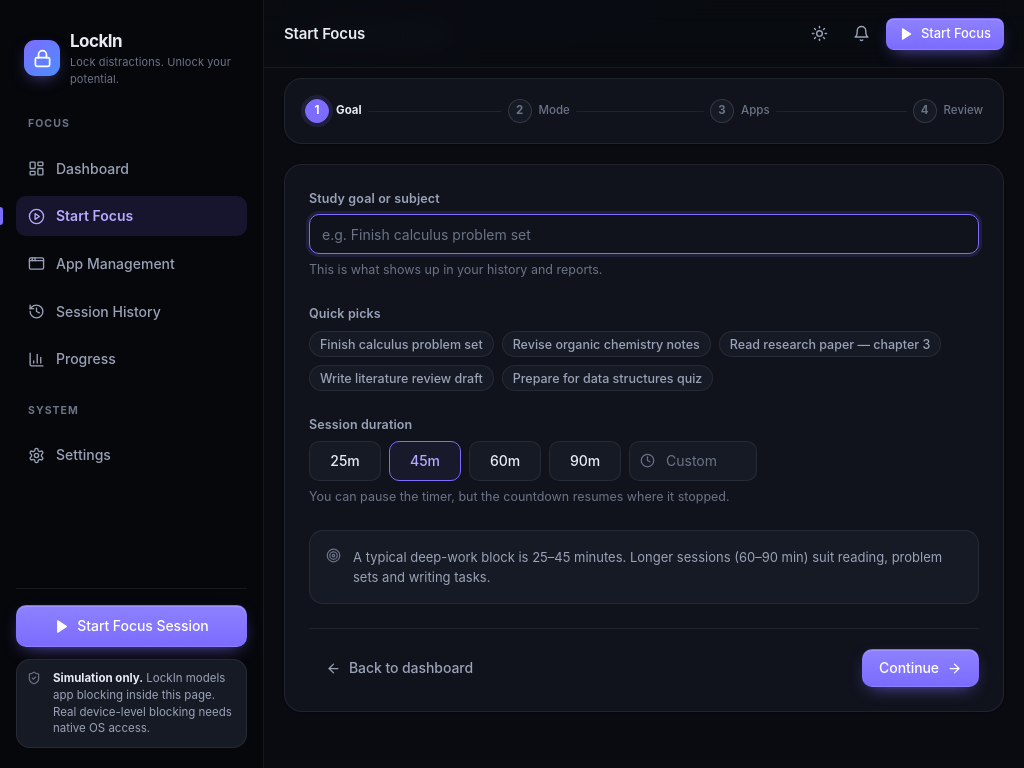
focus session setup › refuses to continue without a valid study goal
(page scrolled)
Expected: the field labelled "Study goal or subject" is shown, left=309, top=214, right=979, bottom=254
Click the button "Continue" at (920, 668), box left=862, top=649, right=979, bottom=687
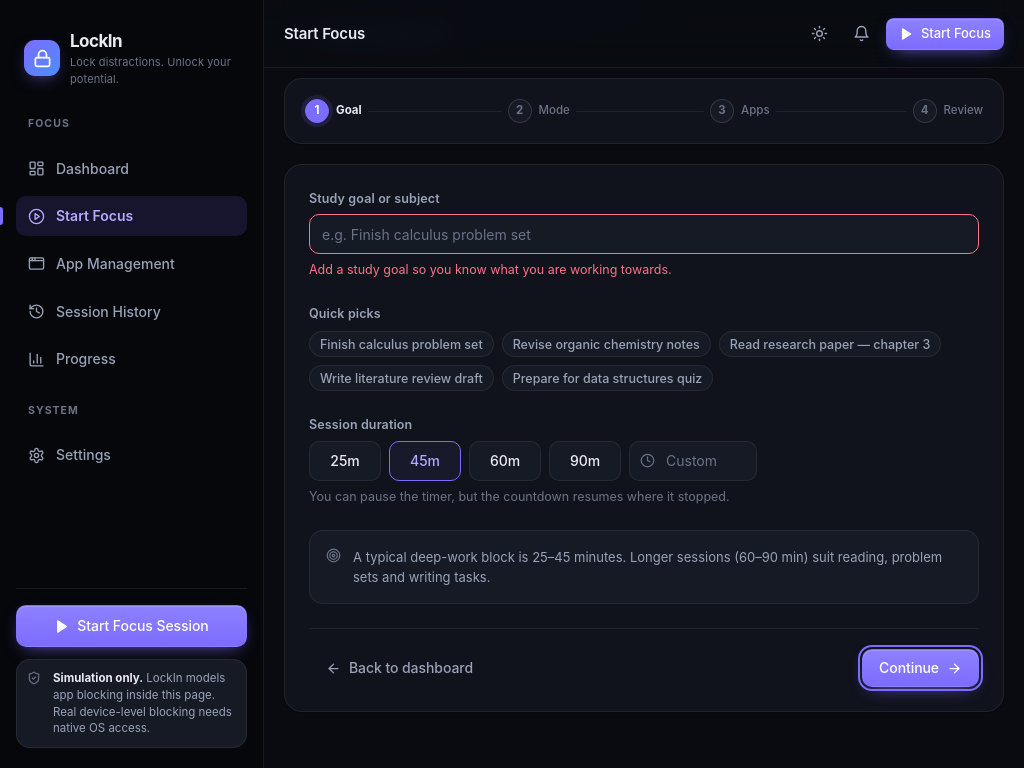
Result: the text "Add a study goal so you know what you are working towards." is shown at left=309, top=262, right=672, bottom=278
